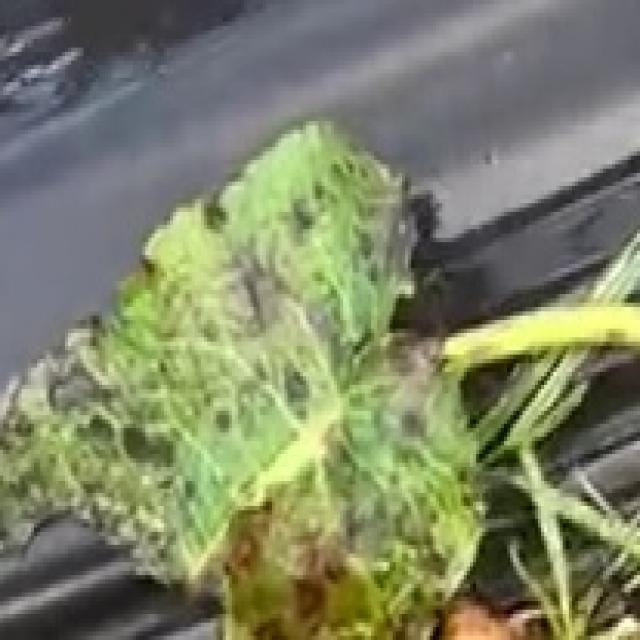organic waste: (0, 126, 563, 575)
